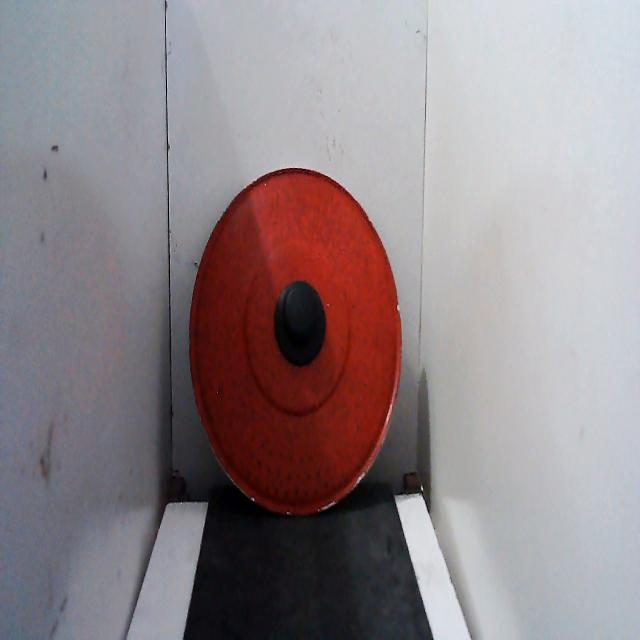metal: (184, 156, 406, 526)
